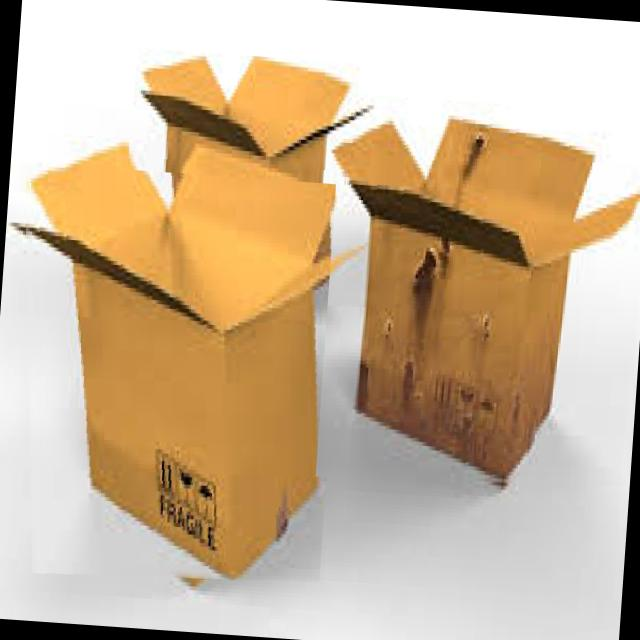PaperCardboard: (0, 130, 348, 592), (315, 95, 640, 498), (127, 44, 357, 184)
